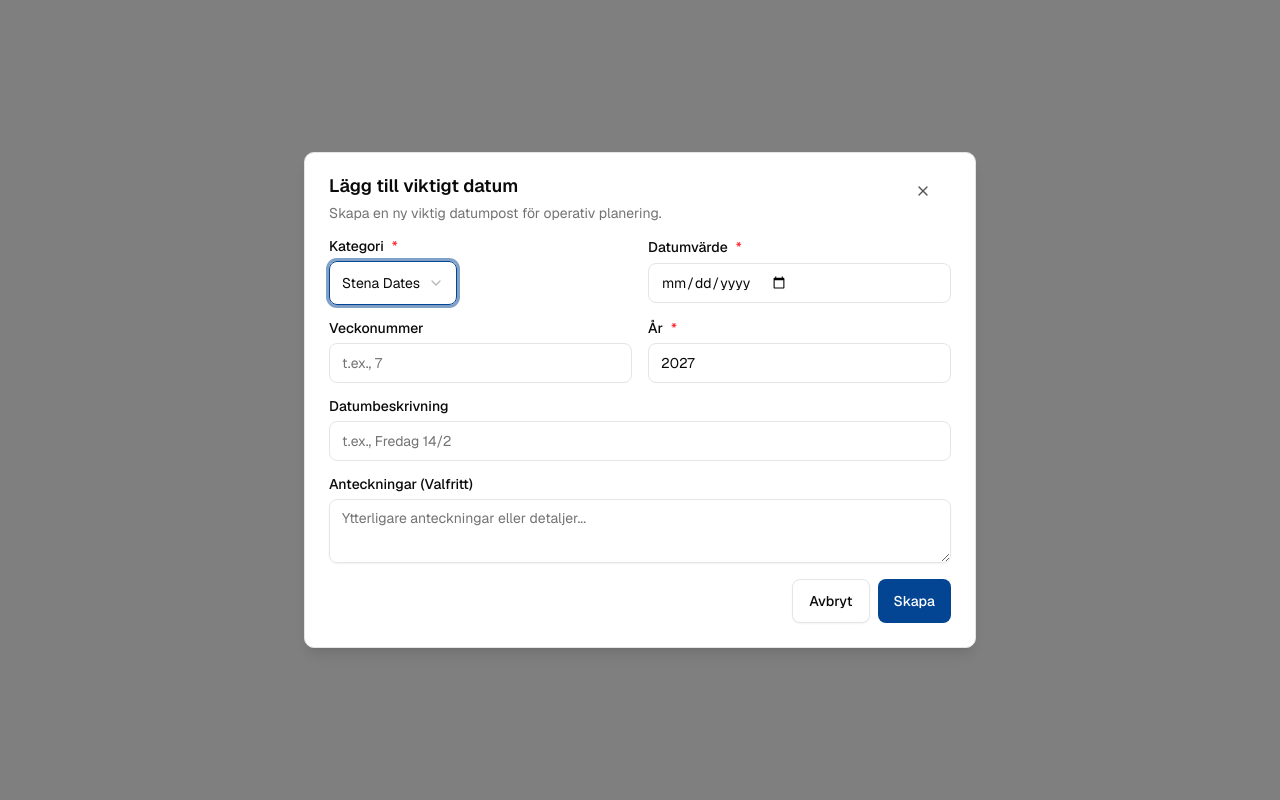
Test: Form Validation Integration Workflows › AC6: Form Validation Integration Tests › should display validation errors in correct locations
Select PE3 and try to submit without time
Click the dropdown named "kategori" at (393, 283), box x1=329 y1=261 x2=457 y2=305
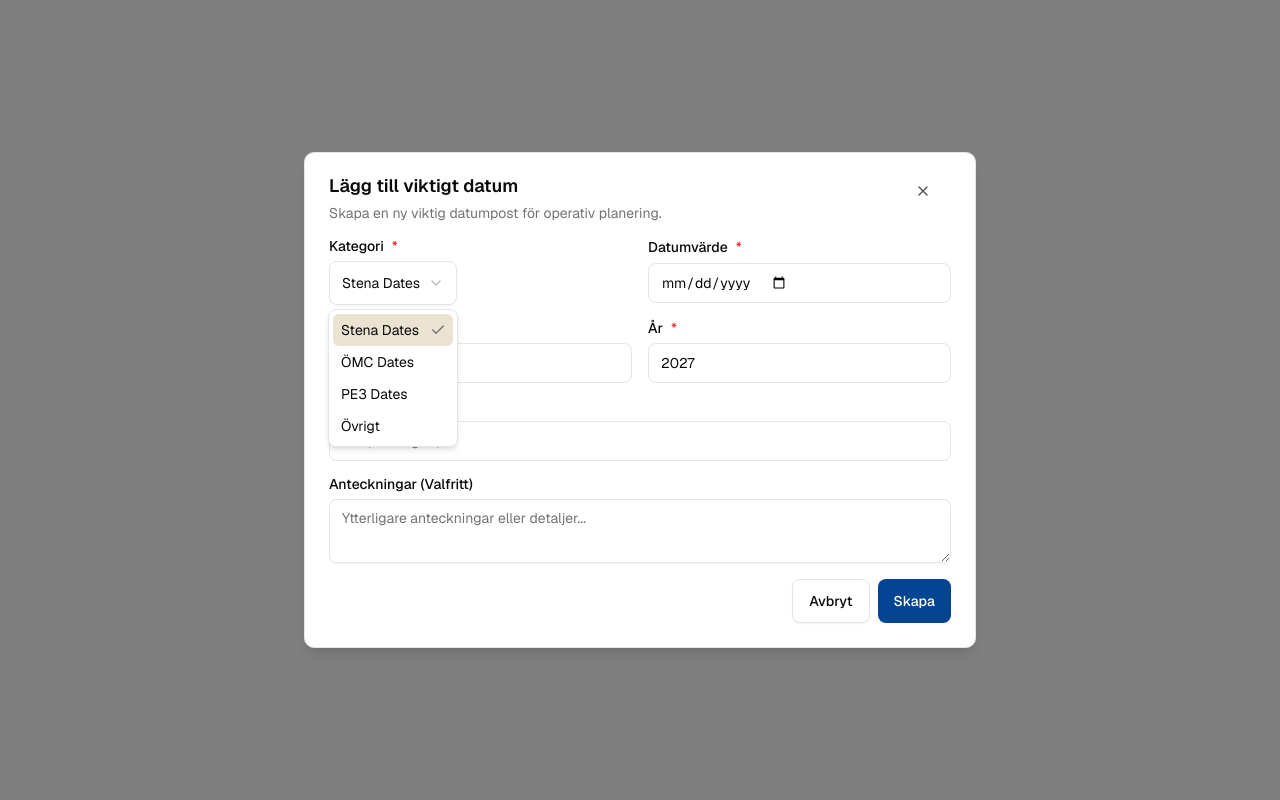
Click the option "PE3 Dates" at (374, 394), box x1=341 y1=385 x2=408 y2=403
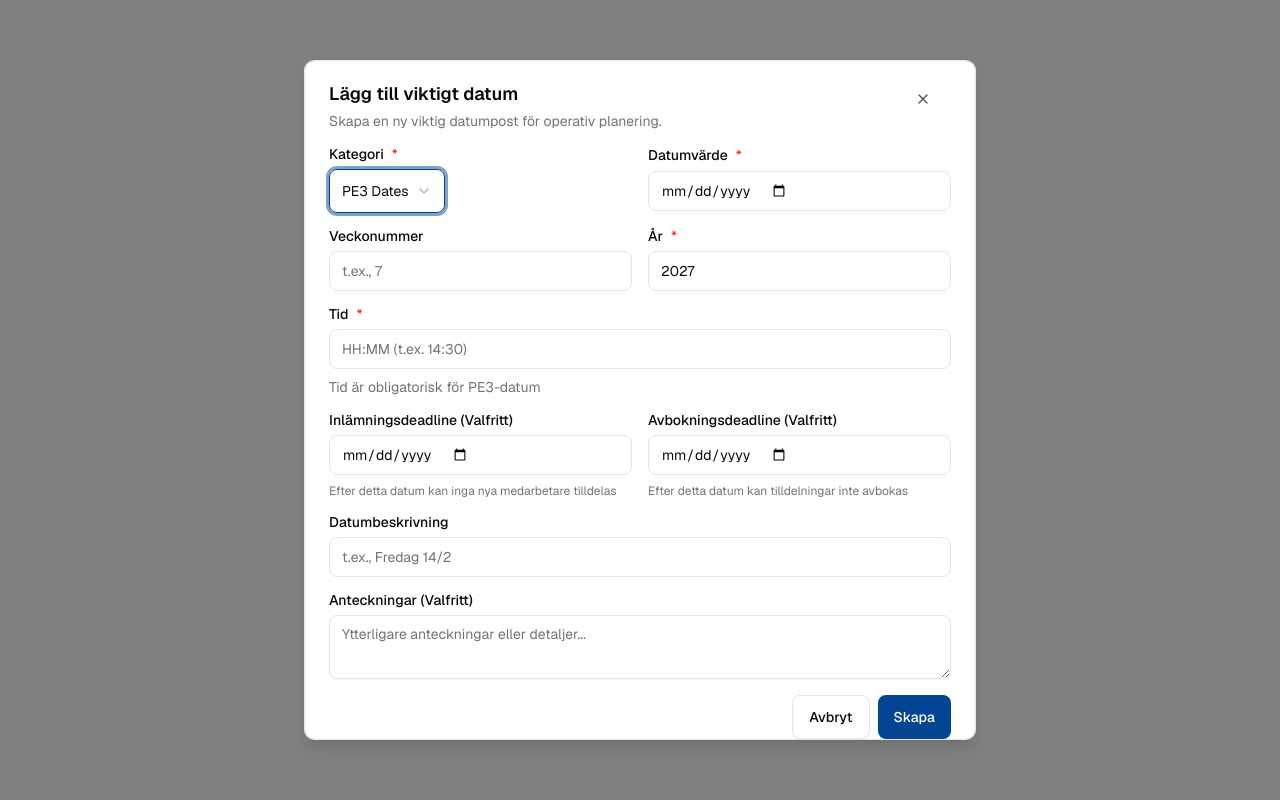
Type "2025-03-15" into the date field labelled "Datumvärde *" at (800, 191), box x1=648 y1=171 x2=951 y2=211
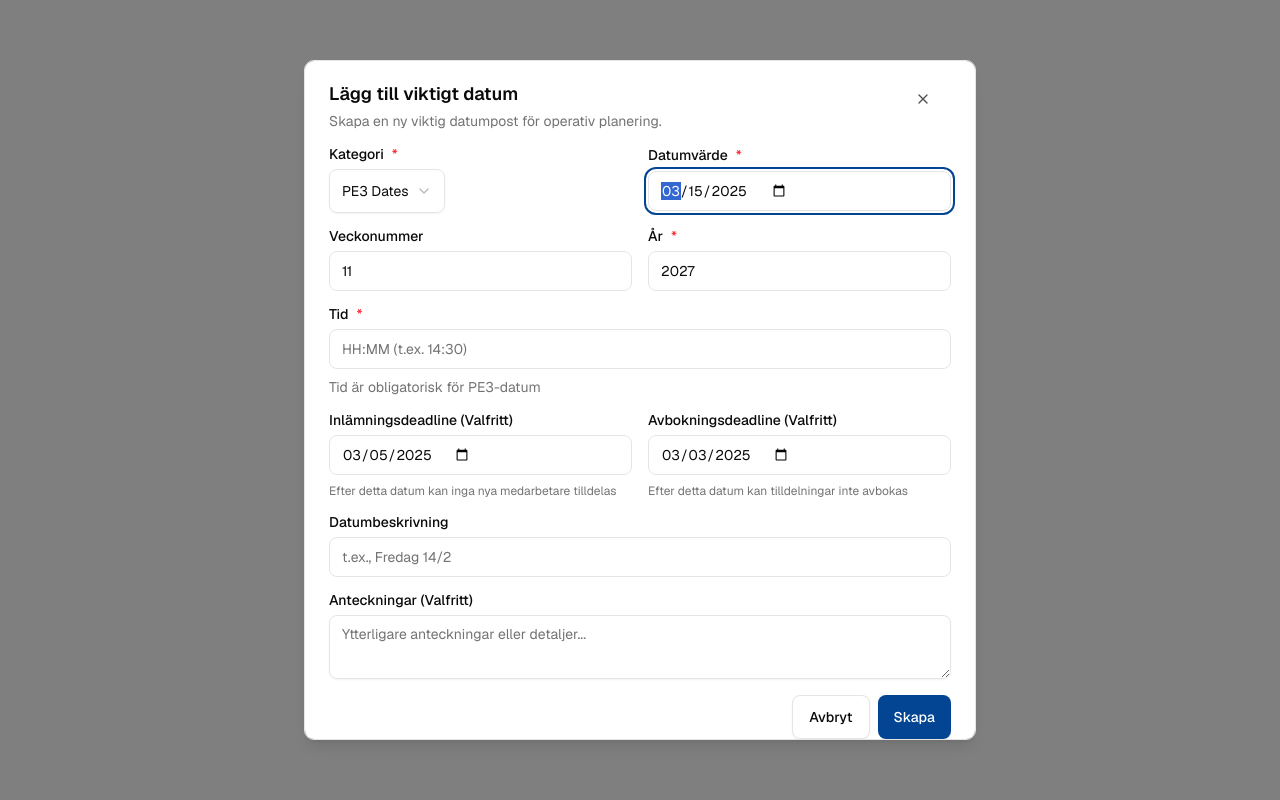
Click the button "Skapa" at (914, 717), box x1=878 y1=695 x2=951 y2=739
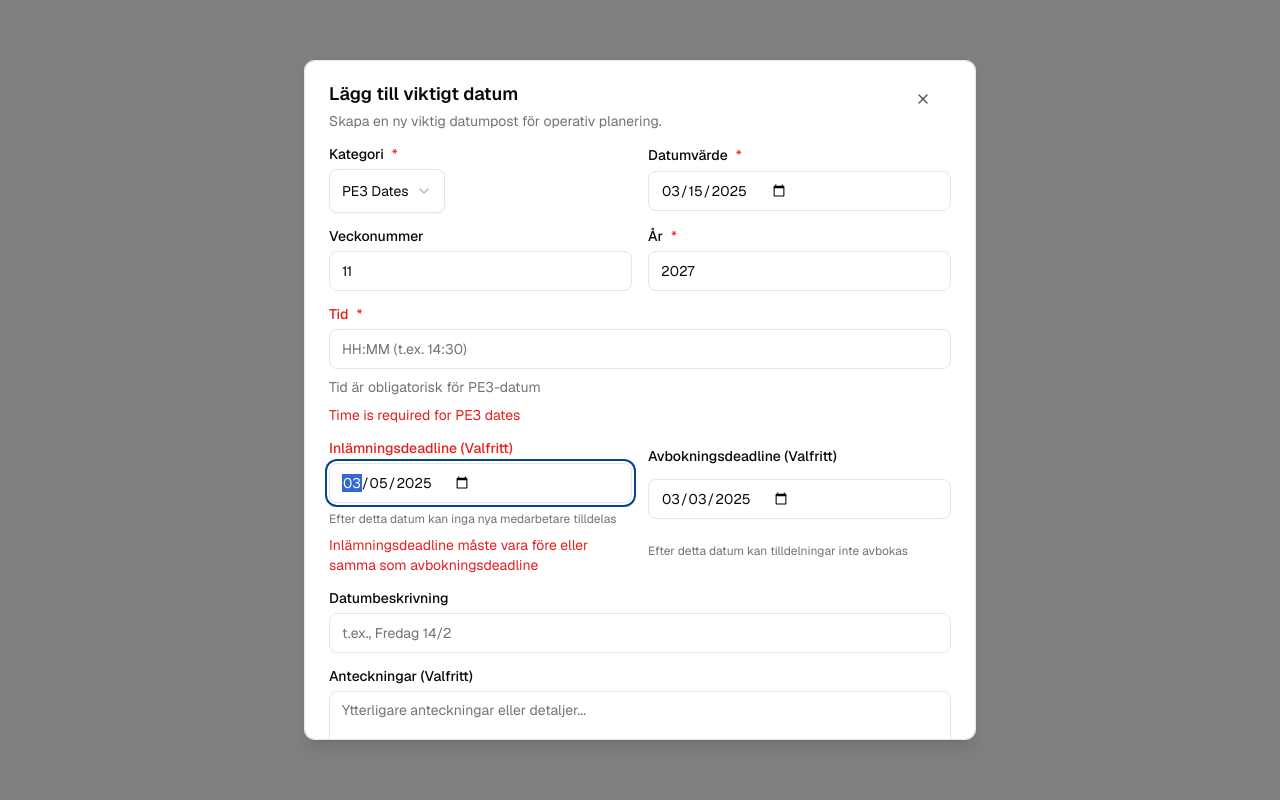
expect the text "Time is required for PE3 dates" is shown: met, box x1=329 y1=406 x2=520 y2=424
